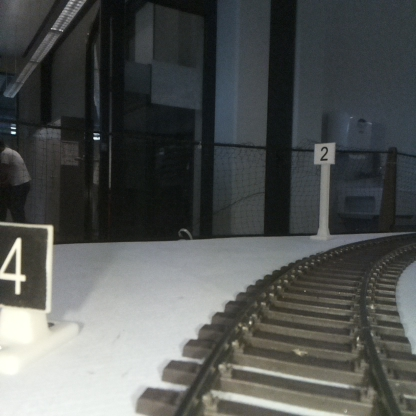black-stop-4: (0, 226, 47, 367)
white-info-2: (314, 142, 335, 238)
